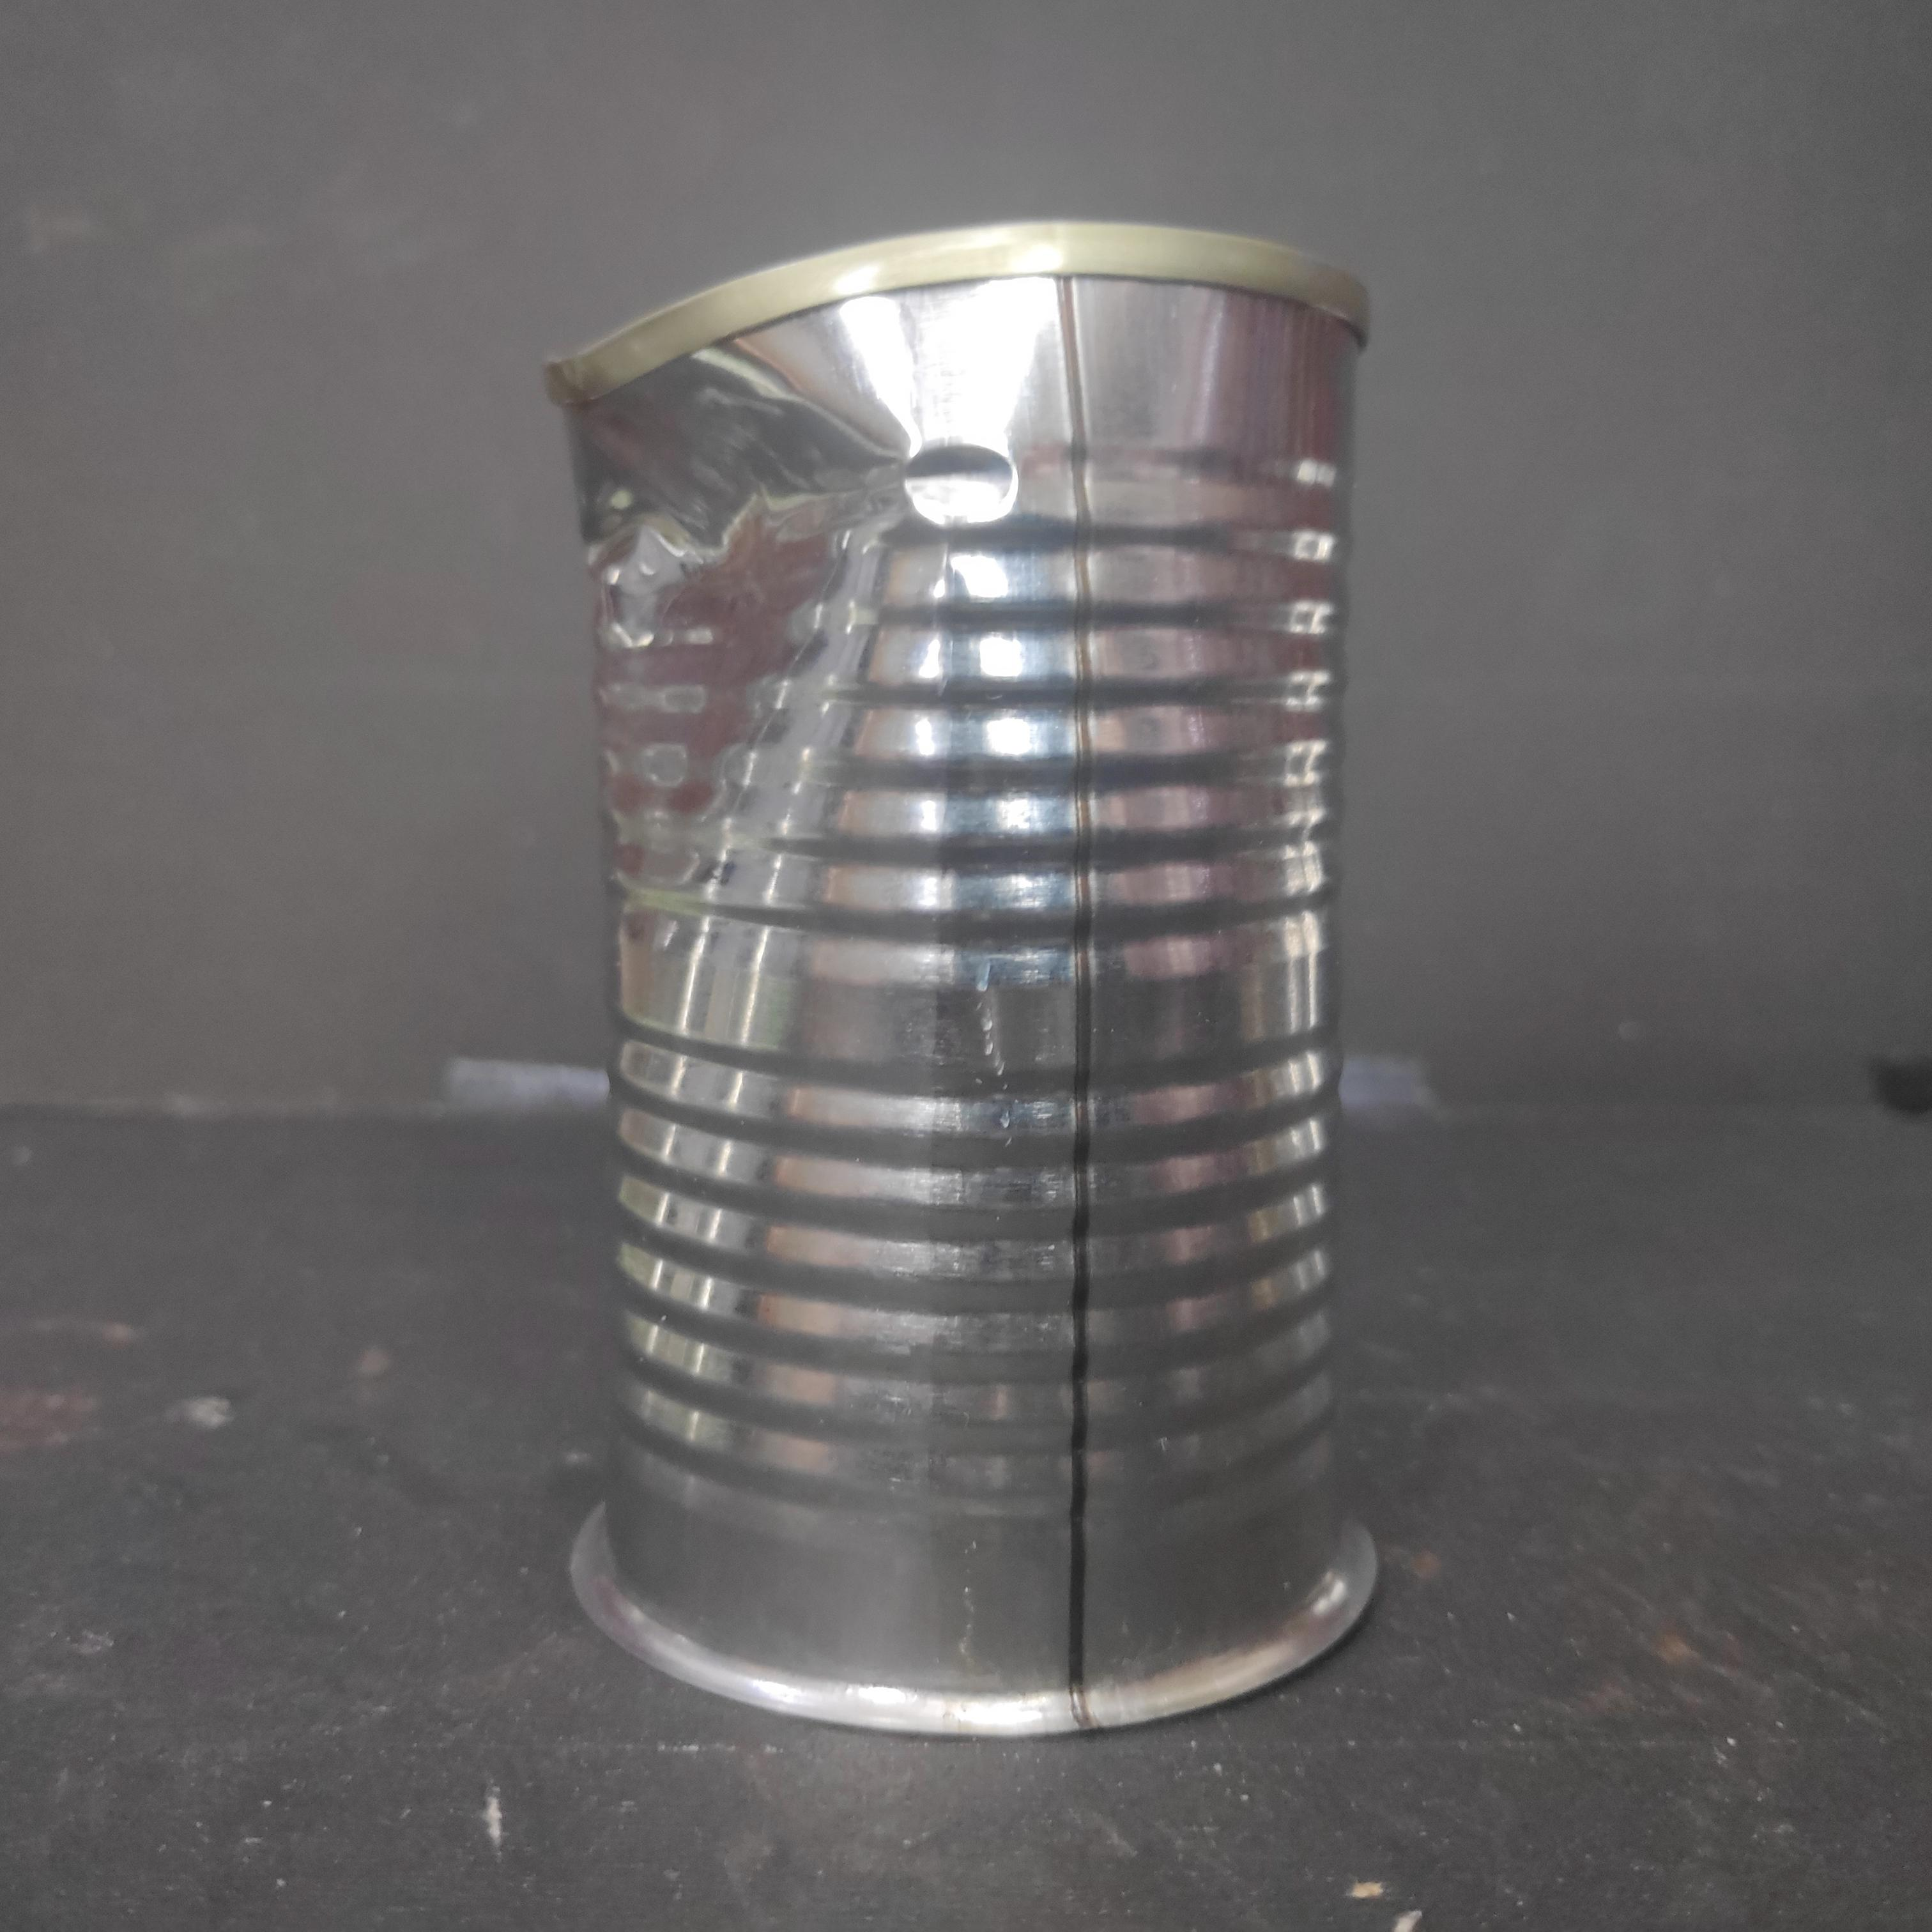Major Defect: (529, 205, 1389, 1755)
